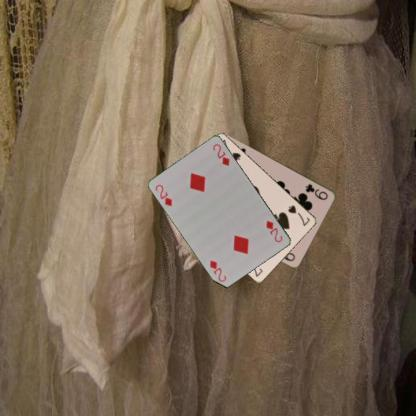2d: (153, 182, 174, 208), (264, 218, 284, 244)
7s: (286, 202, 312, 227)
9c: (304, 181, 330, 201)
